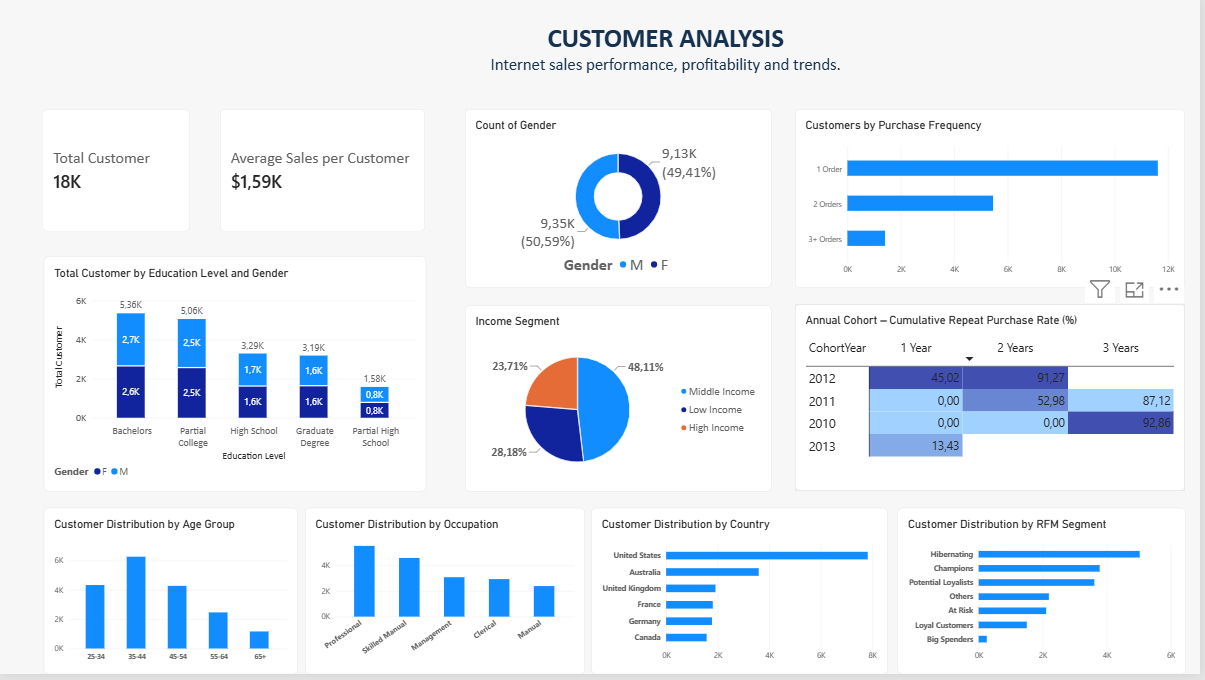

What the dashboard file says about the page in this screenshot:
{"tool":"powerbi","page":{"name":"Customer Overview","canvas":[1920,1080],"ordinal":1},"visuals":[{"type":"textbox","box":[758,36,614,140],"z":0},{"type":"cardVisual","fields":{"Data":["FactInternetSales.Total_Customer"]},"box":[68,176,236,196],"z":1000},{"type":"cardVisual","fields":{"Data":["FactInternetSales.Average Sales per Customer"]},"box":[352,176,328,196],"z":2000},{"type":"donutChart","title":"Count of Gender ","fields":{"Category":["DimCustomer.Gender"],"Y":["FactInternetSales.Total_Customer"]},"box":[743.8,175.5,490.4,285.9],"z":3000},{"type":"columnChart","title":"Total Customer by Education Level and Gender","fields":{"Category":["DimCustomer.EnglishEducation"],"Series":["DimCustomer.Gender"],"Y":["FactInternetSales.Total_Customer"]},"box":[70.6,412.6,612,376],"z":4000},{"type":"pieChart","title":"Income Segment","fields":{"Category":["DimCustomer.Income Segment"],"Y":["FactInternetSales.Total_Customer"]},"box":[743.8,490.4,490.4,298.6],"z":5000},{"type":"clusteredColumnChart","title":"Customer Distribution by Age Group","fields":{"Category":["DimCustomer.Age Group"],"Y":["FactInternetSales.Total_Customer"]},"box":[70,814,406,266],"z":6000},{"type":"clusteredColumnChart","title":"Customer Distribution by Occupation","fields":{"Category":["DimCustomer.EnglishOccupation"],"Y":["FactInternetSales.Total_Customer"]},"box":[488.6,814.3,448,266],"z":7000},{"type":"clusteredBarChart","title":"Customer Distribution by Country","fields":{"Category":["DimGeography.EnglishCountryRegionName"],"Y":["FactInternetSales.Total_Customer"]},"box":[946.5,814.3,474,266],"z":8000},{"type":"clusteredBarChart","title":"Customers by Purchase Frequency","fields":{"Category":["DimCustomer.Purchase Frequency Segment"],"Y":["CountNonNull(DimCustomer.CustomerKey)"]},"box":[1272.2,175.5,624,286],"z":9000},{"type":"pivotTable","title":"Annual Cohort – Cumulative Repeat Purchase Rate (%)","fields":{"Rows":["vw_CohortRetention.CohortYear"],"Values":["Avg(vw_CohortRetention.Retention1Y)","Avg(vw_CohortRetention.Retention2Y)","Avg(vw_CohortRetention.Retention3Y)"]},"box":[1272.2,488.6,624,298],"z":10000},{"type":"clusteredBarChart","title":"Customer Distribution by RFM Segment","fields":{"Category":["vw_CustomerRFM.CustomerSegment"],"Y":["CountNonNull(vw_CustomerRFM.CustomerKey)"]},"box":[1435.1,814.3,461.5,266],"z":11000}]}

Visuals, with their boxes in screenshot pixels (x1, y1, x2, y2), scaled from the page's 1920x1080 canvas onto the 1205x680 screenshot:
textbox: 476/23/861/111
cardVisual - FactInternetSales.Total_Customer: 43/111/191/234
cardVisual - FactInternetSales.Average Sales per Customer: 221/111/427/234
"Count of Gender " donutChart: 467/110/775/291
"Total Customer by Education Level and Gender" columnChart: 44/260/428/497
"Income Segment" pieChart: 467/309/775/497
"Customer Distribution by Age Group" clusteredColumnChart: 44/513/299/679
"Customer Distribution by Occupation" clusteredColumnChart: 307/513/588/679
"Customer Distribution by Country" clusteredBarChart: 594/513/892/679
"Customers by Purchase Frequency" clusteredBarChart: 798/110/1190/291
"Annual Cohort – Cumulative Repeat Purchase Rate (%)" pivotTable: 798/308/1190/495
"Customer Distribution by RFM Segment" clusteredBarChart: 901/513/1190/679
